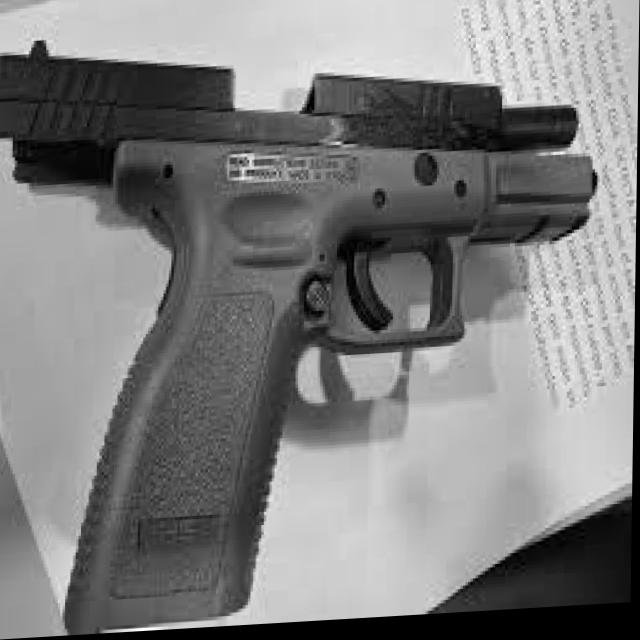handgun: (0, 23, 609, 640)
